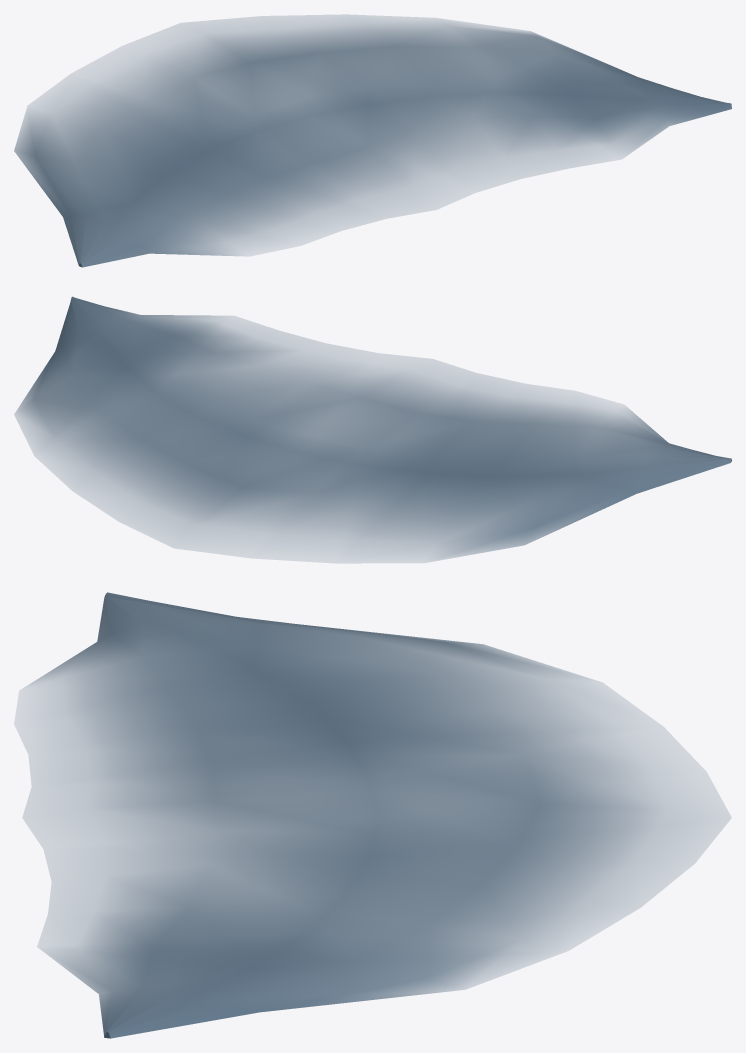
Rendered from mist_sheet_b.glb.
3 views of the same model, one above another, from view 1: azimuth 30°, elevation 25°; view 2: azimuth 150°, elevation 25°; view 3: azimuth 270°, elevation 25° (orthographic). The views are drawn at different scales.
Parts seen in each view (by area): view 1: mist_sheet_b; view 2: mist_sheet_b; view 3: mist_sheet_b.
Part boxes in pixels (bbox=[...]): mist_sheet_b: bbox=[14, 14, 731, 267]; mist_sheet_b: bbox=[14, 296, 731, 562]; mist_sheet_b: bbox=[14, 592, 731, 1038].
Bounding box in the file's own units: 32 × 0.9 × 22.
